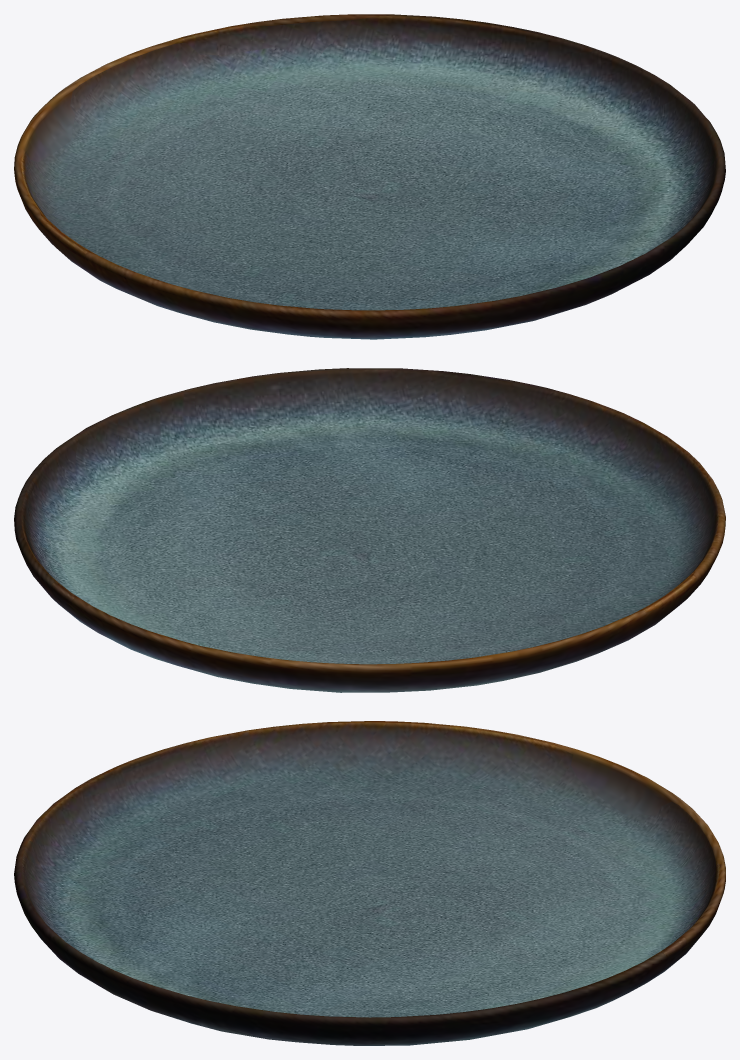
Rendered from gladelig_talerz_50600721.glb.
The picture shows the model from 3 angles, top to bottom: view 1: azimuth 30°, elevation 25°; view 2: azimuth 150°, elevation 25°; view 3: azimuth 270°, elevation 25°; orthographic projection.
Visible parts, largest first — view 1: gladelig_talerz_50600721; view 2: gladelig_talerz_50600721; view 3: gladelig_talerz_50600721.
Part boxes in pixels (box(x1,y1,x2,y2)): gladelig_talerz_50600721: box(14, 14, 725, 339); gladelig_talerz_50600721: box(14, 368, 725, 692); gladelig_talerz_50600721: box(14, 721, 725, 1045).
Bounding box in the file's own units: 0.2477 × 0.023 × 0.2478.
Materials: 1 (1 with a texture image).
